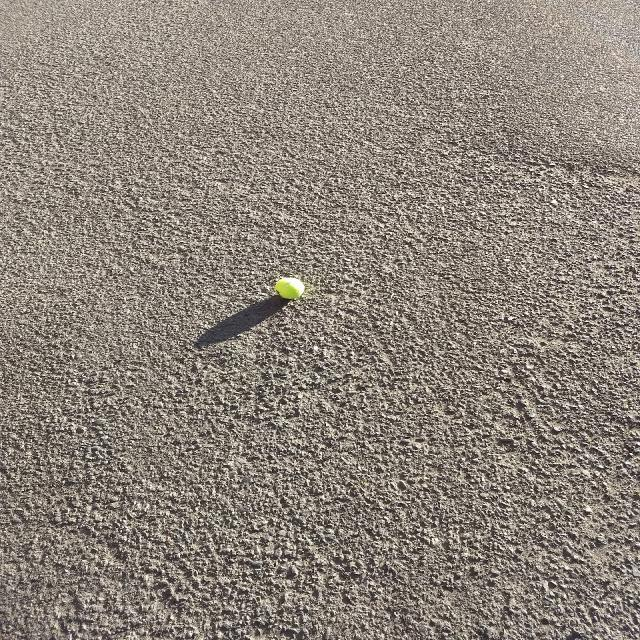Tennis-Ball: (276, 278, 306, 298)
